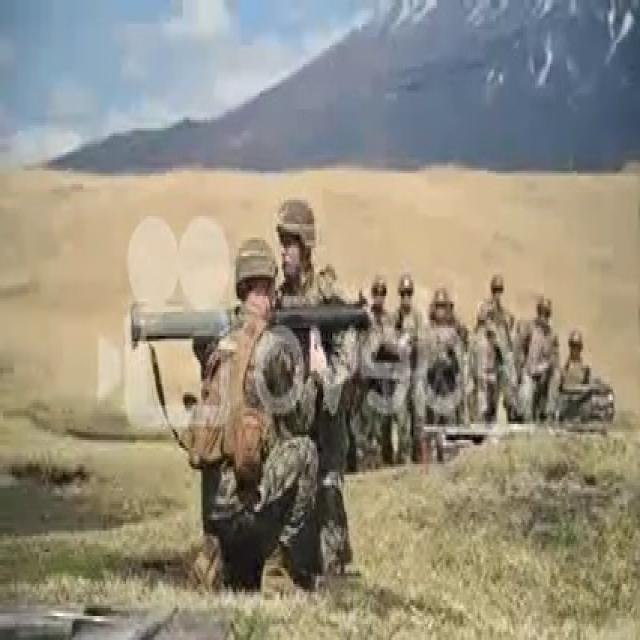rocket: (132, 298, 371, 346)
